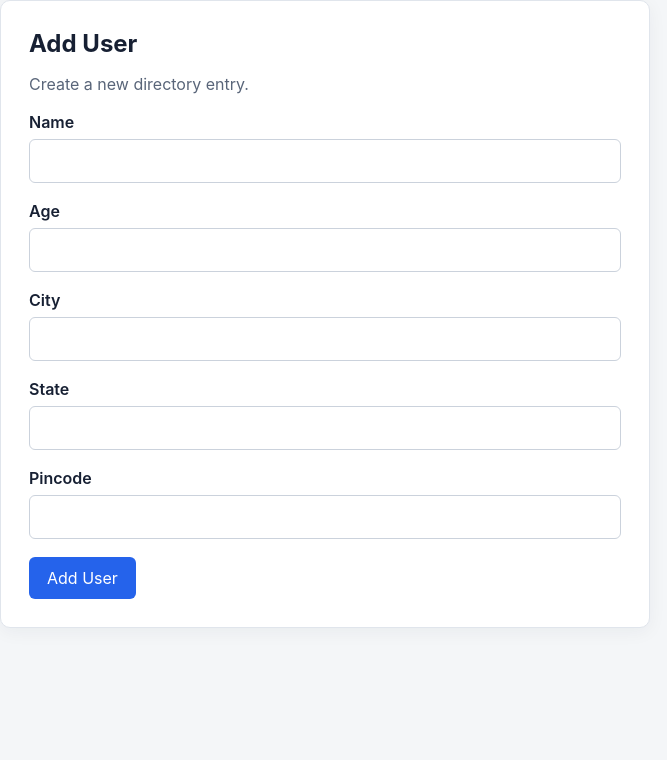
AddUserPage › shows inline validation for required fields
What coordinates should you click on to do the following:
click the button "Add User"
I would click on:
 (82, 578)
Its box is [29,557,136,599].
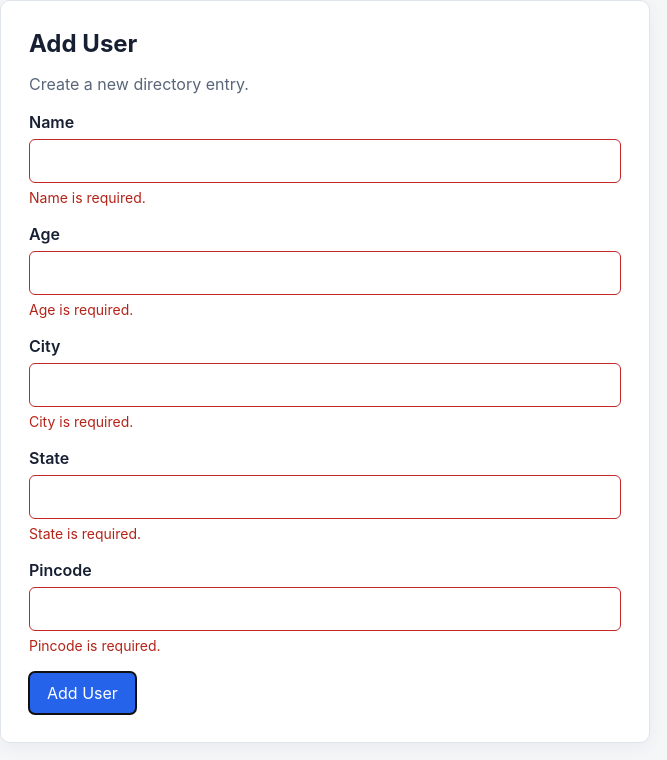
Expected: the text "Name is required." is shown, [29,189,146,206]
Expected: the text "Age is required." is shown, [29,301,133,318]
Expected: the text "City is required." is shown, [29,413,133,430]
